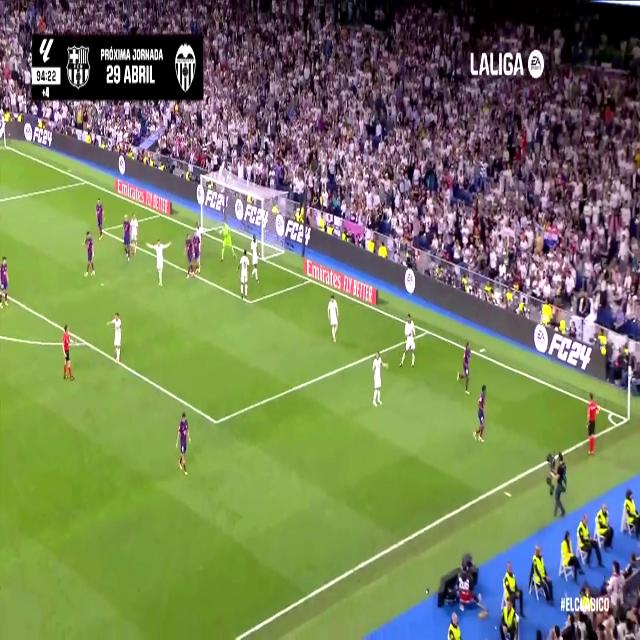bigarea_bottom_inner: (210, 408, 222, 435)
bigarea_bottom_outter: (422, 324, 432, 339)
bigarea_top_outter: (81, 174, 89, 187)
bottom_arc_area_intersection: (80, 332, 91, 352)
corner: (1, 140, 9, 151)
smallarea_bottom_inner: (246, 292, 255, 310)
smallarea_bottom_outter: (306, 273, 312, 285)
